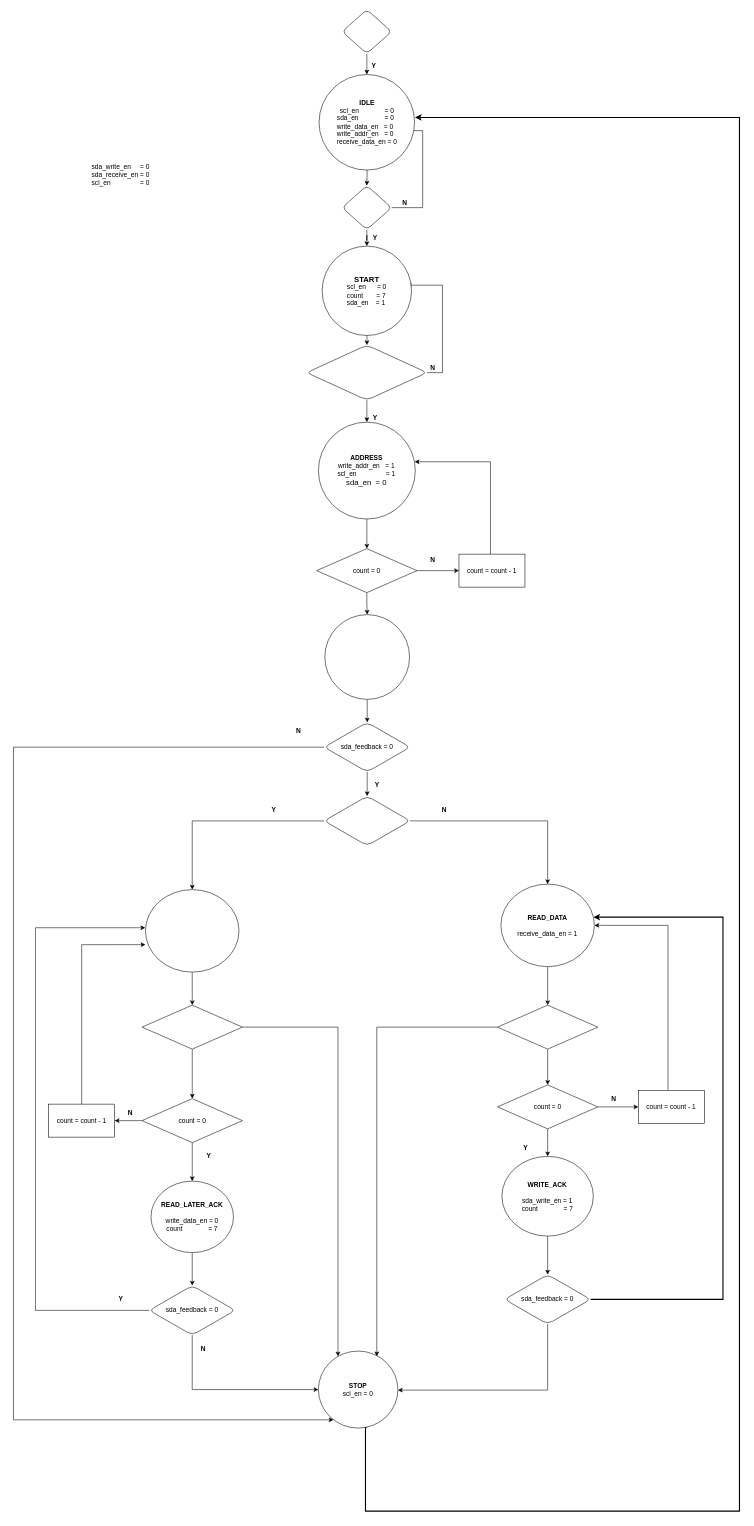
Some shapes in this 754 by 1526 pixel diagram are drawn without their labels. The shapes that lost their labels are listed below. From the top down, each one's centre as x and y in pixels, then its label:
(367,31): ~reset_n = 1
(367,207): enable = 1
(366,372): sda_feedback 1->0 scl_feedback = 1
(367,656): READ_ACK write_addr_en = 0 count = 7
(367,821): rw_i = 0
(192,930): WRITE_DATA write_data_en = 1
(192,1027): empty = 1
(547,1027): full = 1
